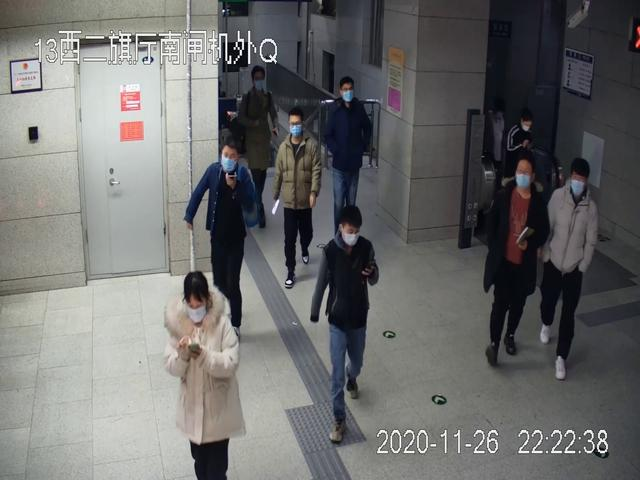person: (162, 270, 246, 480), (309, 205, 380, 441), (184, 140, 265, 340), (481, 156, 548, 365), (543, 157, 598, 379), (270, 111, 322, 289), (325, 76, 372, 243), (237, 66, 280, 227)
